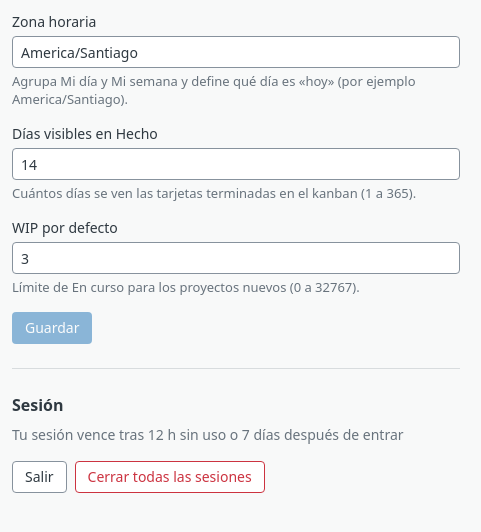
Test: Ajustes (4.8) › valida rangos: Días visibles en Hecho = 0 no se envía
Replace the text in the field labelled "Días visibles en Hecho" with "0" at [236, 164], box [12,148,460,180]
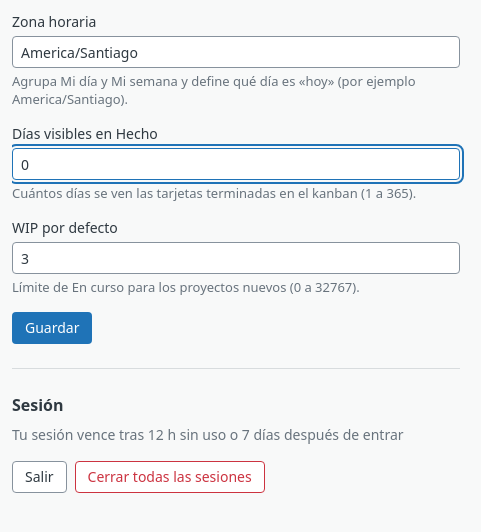
Click the button "Guardar" at [52, 328], box [12,312,92,344]
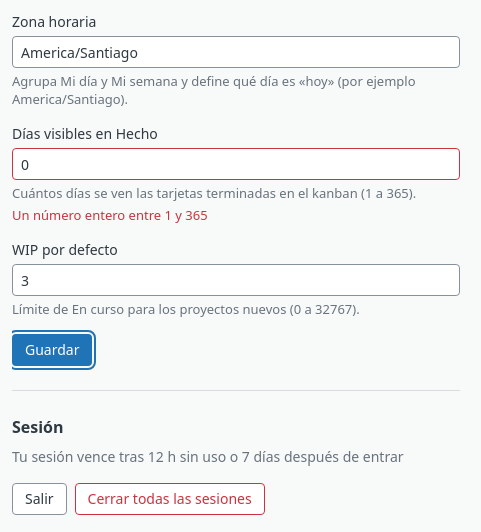
Check: the message shows "entre 1 y 365", box [12,206,208,224]
